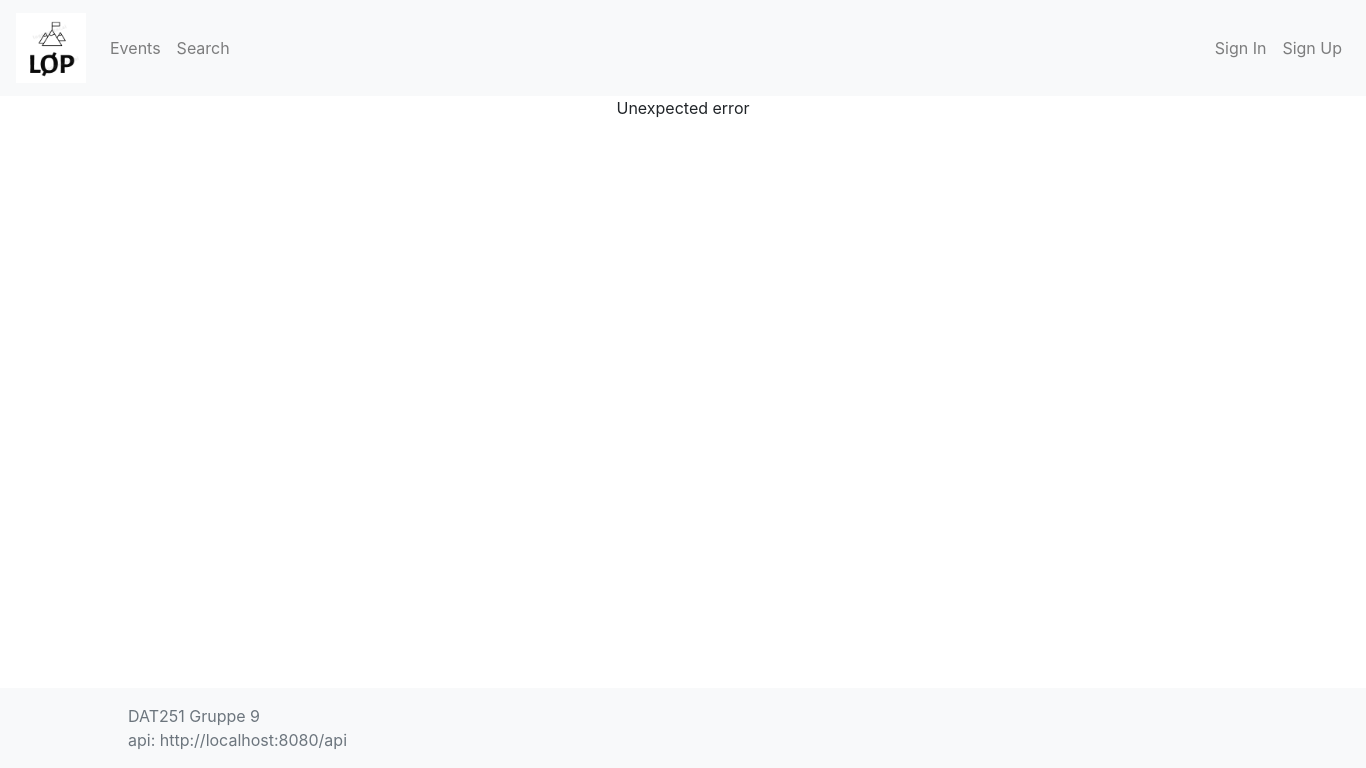
React App Component tests › Go to Sign In page
This screenshot has width=1366, height=768.
Click the link "Sign In" at (1241, 48), box x1=1215 y1=38 x2=1267 y2=58
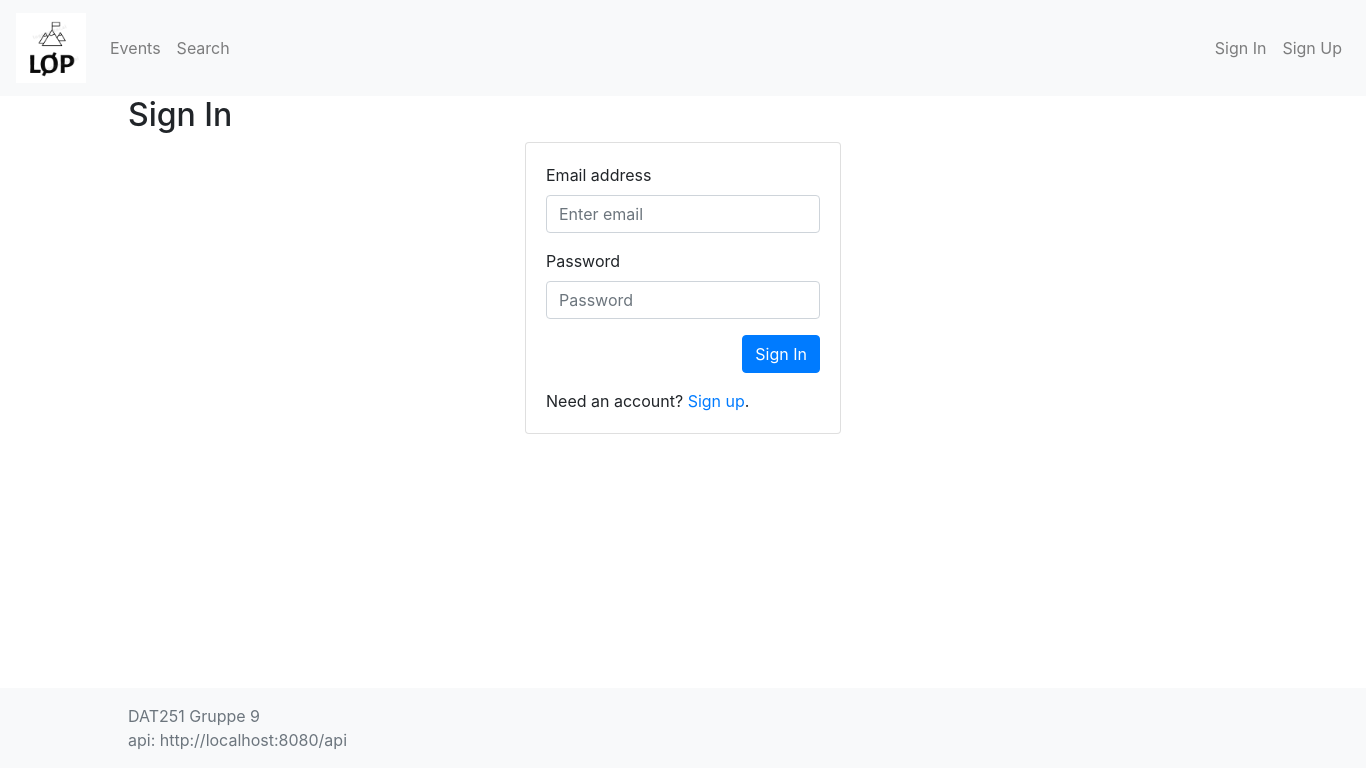
Now the field named "email" is shown, box x1=546 y1=195 x2=820 y2=233
Now the password field named "password" is shown, box x1=546 y1=281 x2=820 y2=319
Now the submit button is shown, box x1=742 y1=335 x2=820 y2=373
